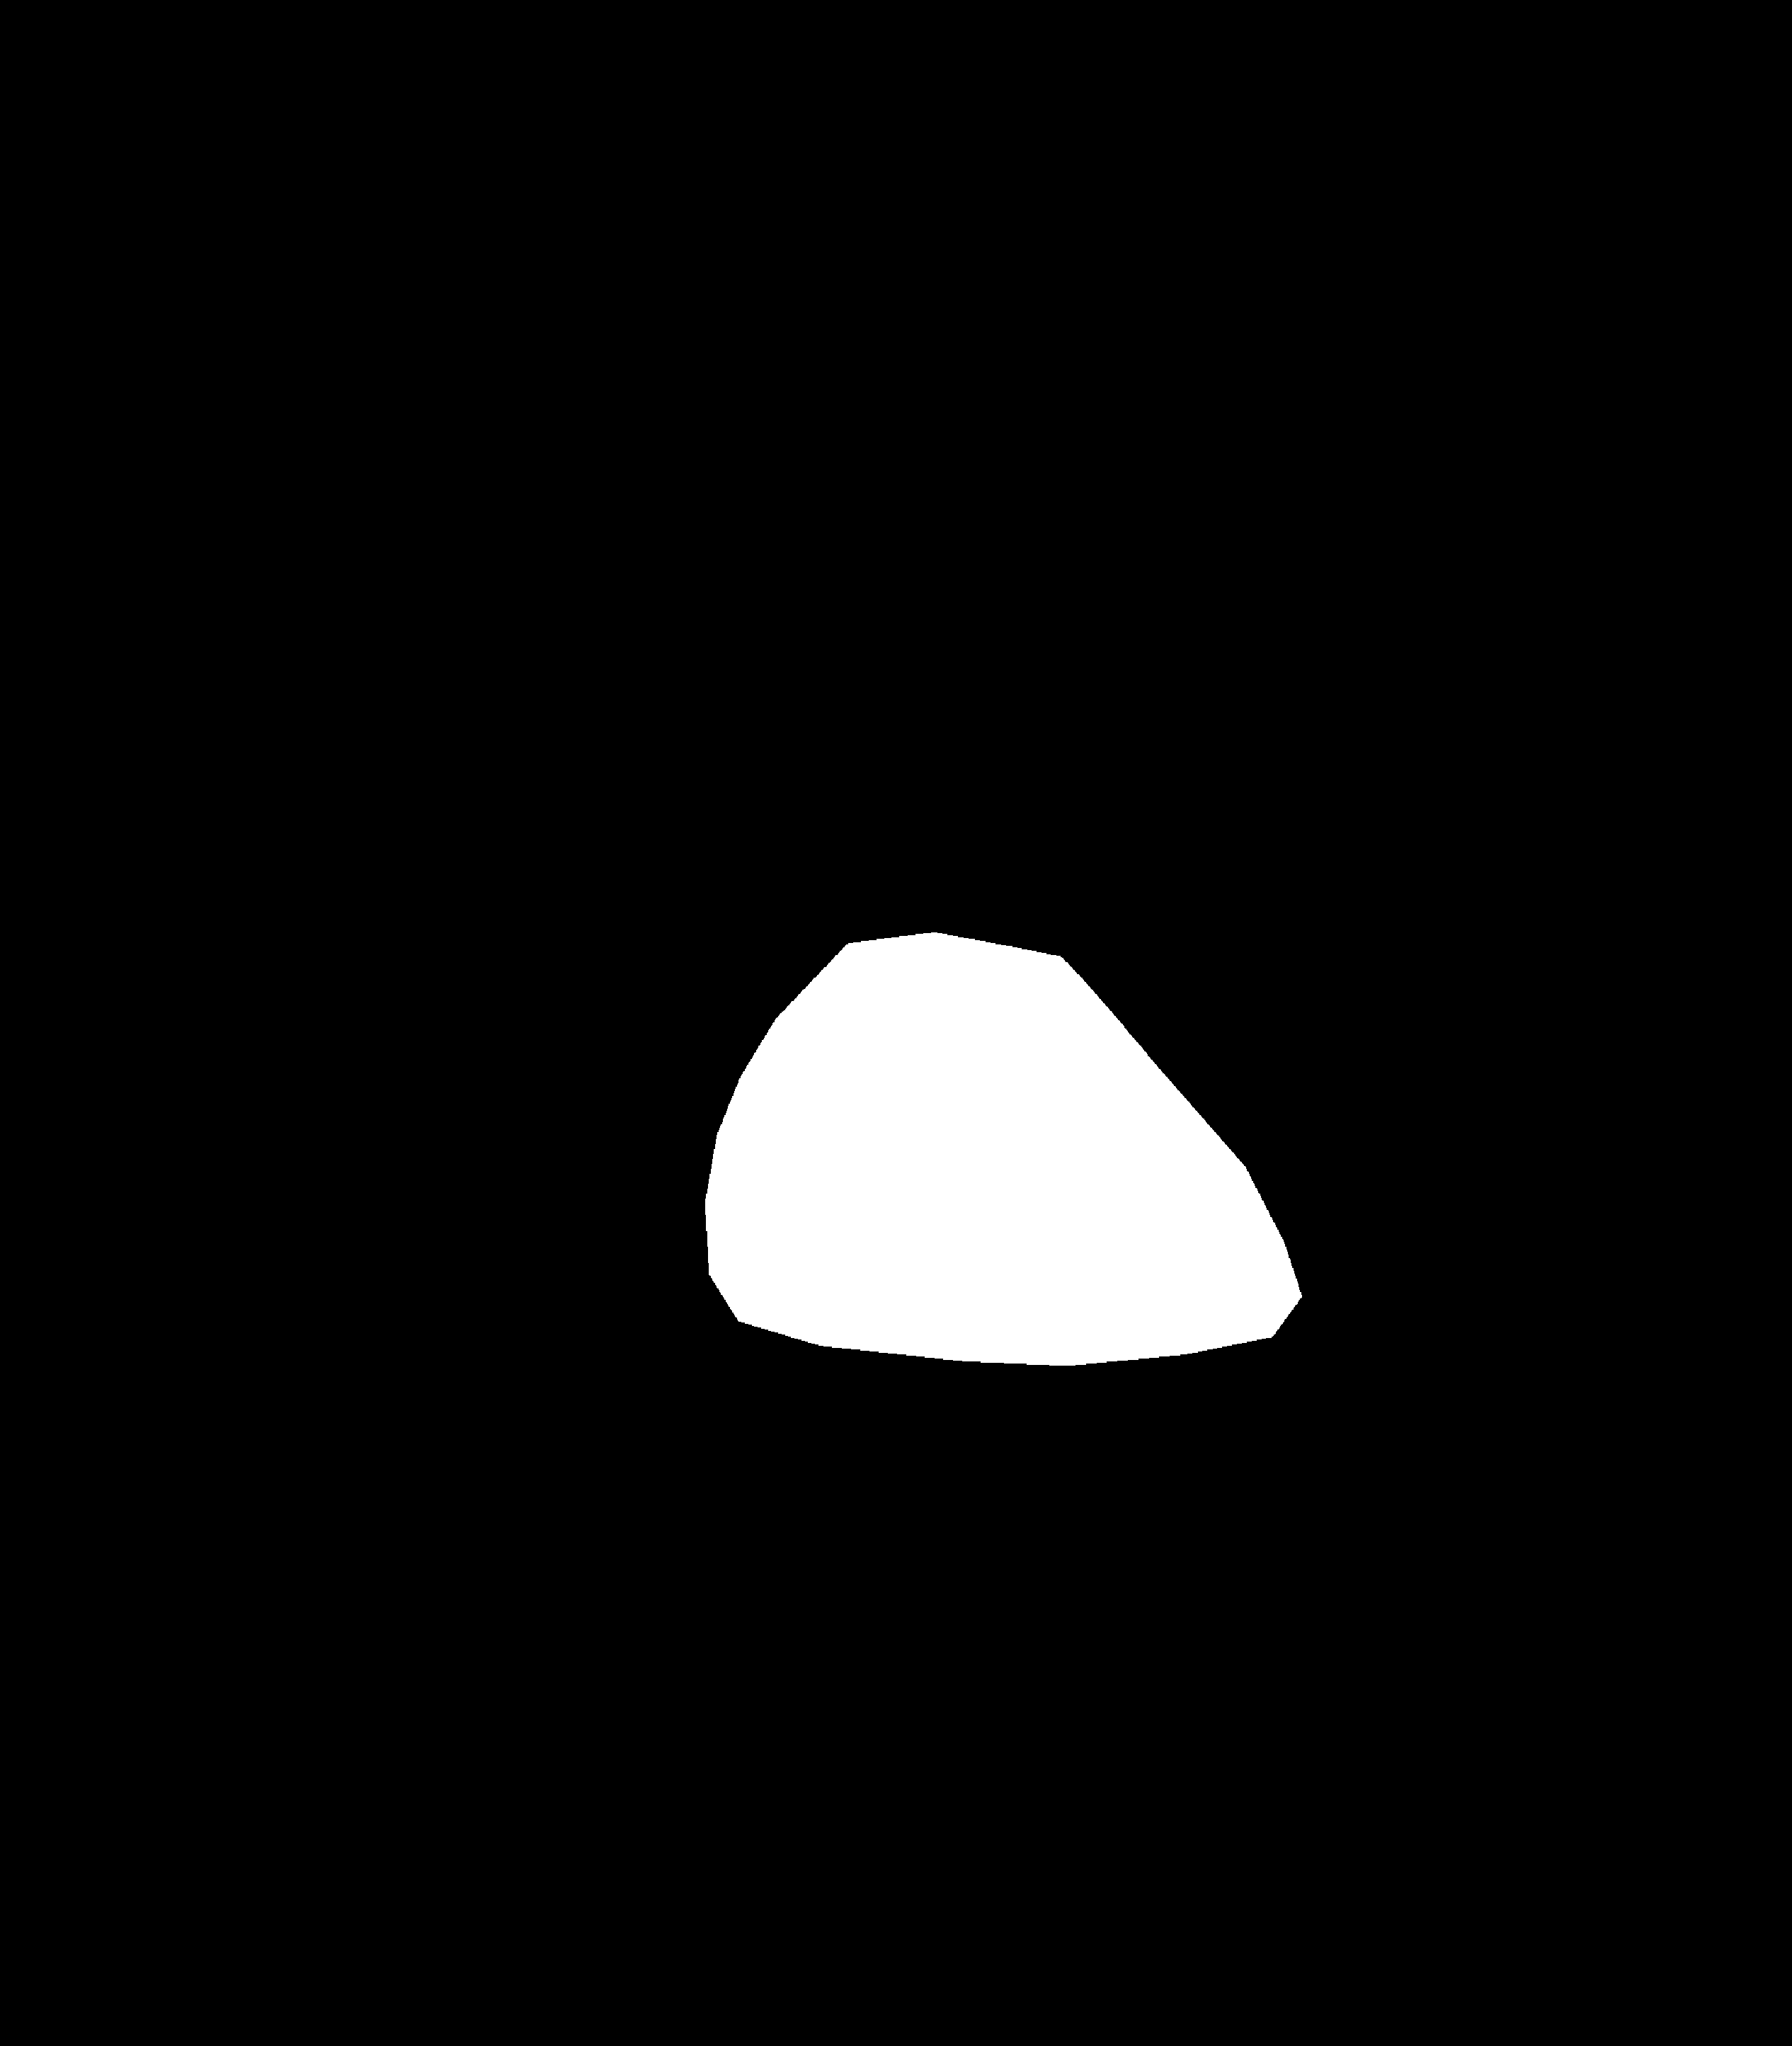heart: (701, 1007, 1298, 1390)
left_lung: (230, 329, 823, 1498)
right_lung: (952, 329, 1540, 1454)
